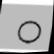no answer: (14, 18, 44, 47)
